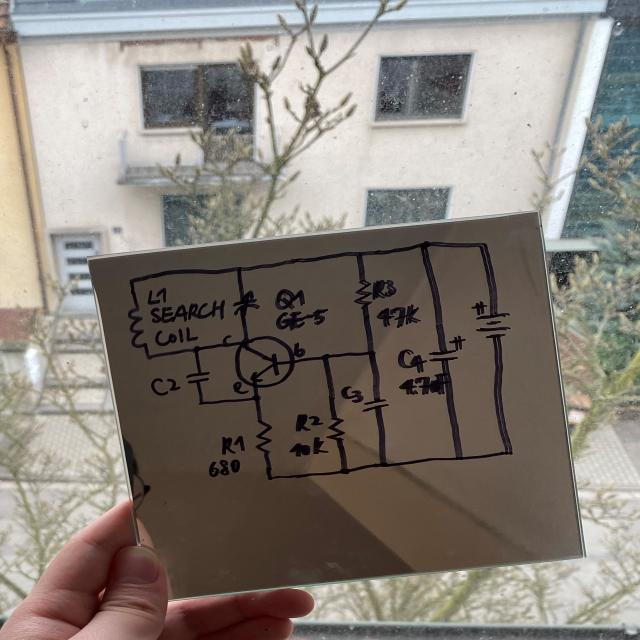capacitor: (428, 335, 467, 363), (229, 290, 262, 318), (183, 369, 212, 385), (360, 397, 390, 412)
inductor: (126, 305, 149, 350)
junction: (318, 351, 333, 364), (363, 347, 379, 359), (249, 393, 265, 404), (188, 343, 203, 354), (418, 239, 432, 250), (338, 465, 352, 476), (352, 249, 366, 259), (501, 447, 515, 457), (376, 460, 389, 470), (263, 472, 276, 482), (476, 240, 489, 250), (126, 276, 139, 286), (452, 453, 465, 462), (143, 352, 154, 362), (195, 398, 207, 407), (233, 265, 244, 273)
resistor: (252, 417, 275, 456), (324, 415, 348, 444), (352, 278, 374, 308)
source: (470, 300, 516, 343)
text: (148, 298, 228, 323), (395, 372, 452, 398), (275, 308, 329, 331), (374, 304, 423, 329), (151, 326, 200, 347), (289, 437, 329, 458), (396, 348, 428, 374), (274, 288, 306, 312), (292, 412, 324, 434), (207, 458, 241, 478), (149, 376, 181, 397), (220, 434, 247, 456), (370, 279, 398, 300), (339, 384, 364, 404), (144, 286, 169, 306), (230, 380, 251, 396), (291, 341, 307, 358), (220, 334, 233, 346)
transistor: (231, 334, 296, 387)
